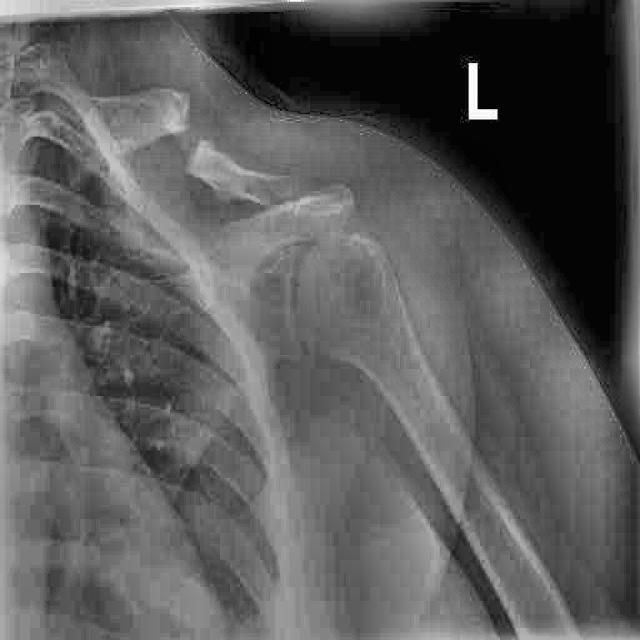shoulder fracture: (141, 80, 284, 222)
